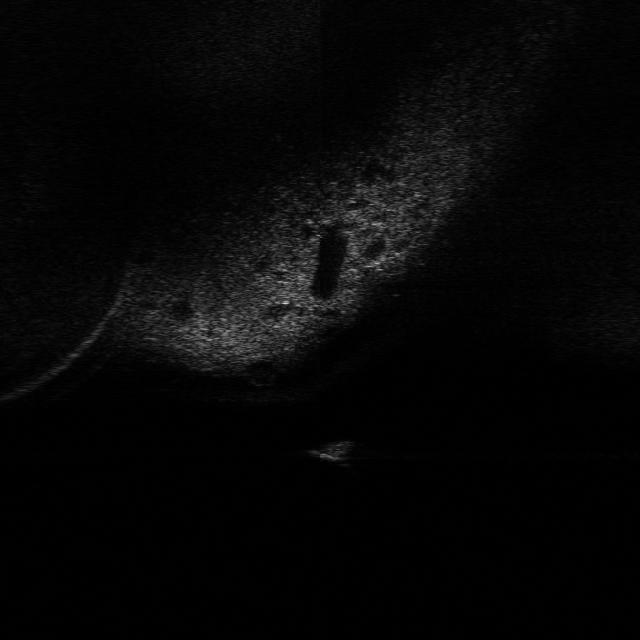cube: (303, 434, 357, 465)
